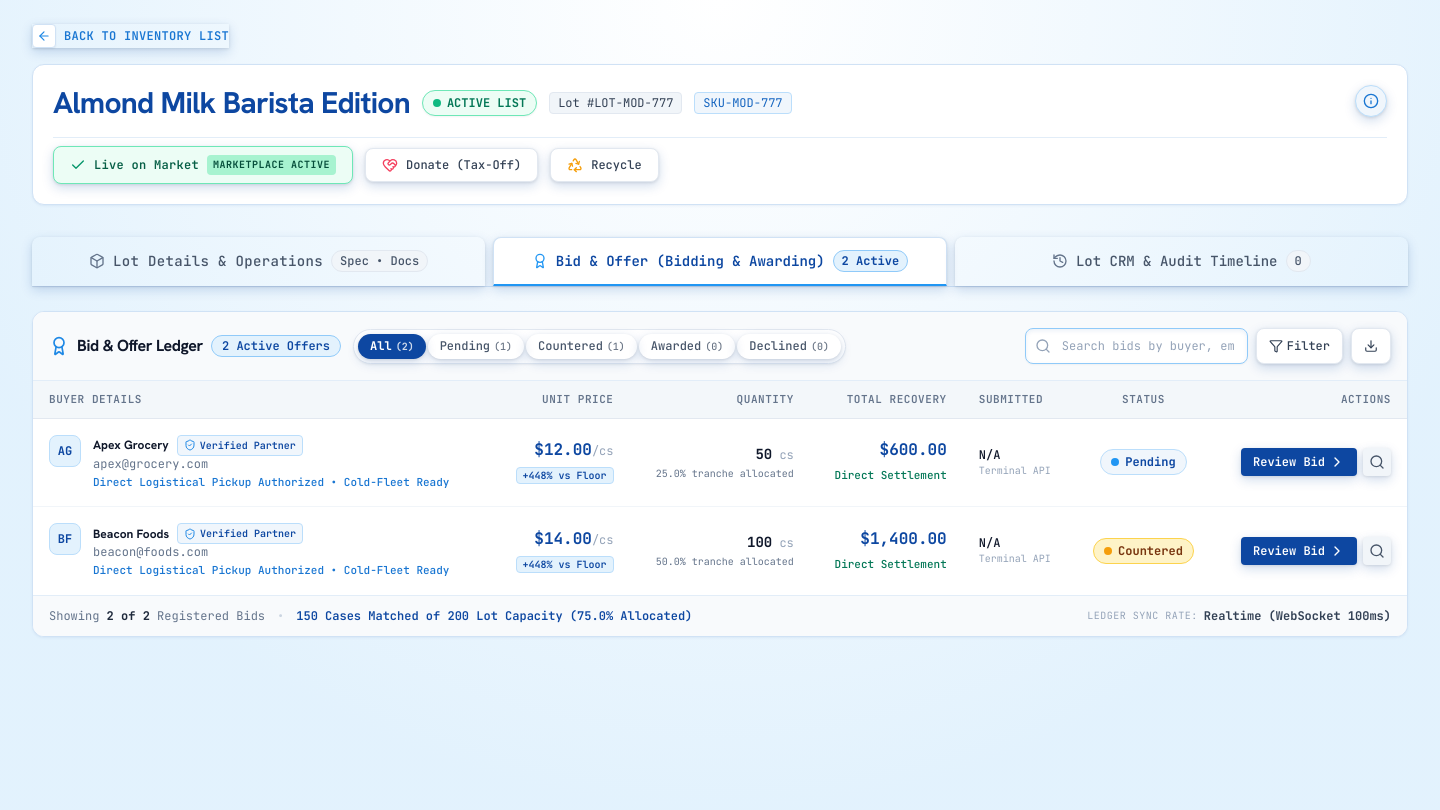
Test: LotOperationsHub Modular Architecture & Headless Math › modular component stage rendering › filters bids by status and query within bids stage
This screenshot has width=1440, height=810.
Expected: the text "Apex Grocery" is shown, [93,437,169,453]
Expected: the text "Beacon Foods" is shown, [93,526,169,542]
// Click Countered filter tab
Click the tab "Countered(1)".
click(581, 346)  # box [526,334,637,358]
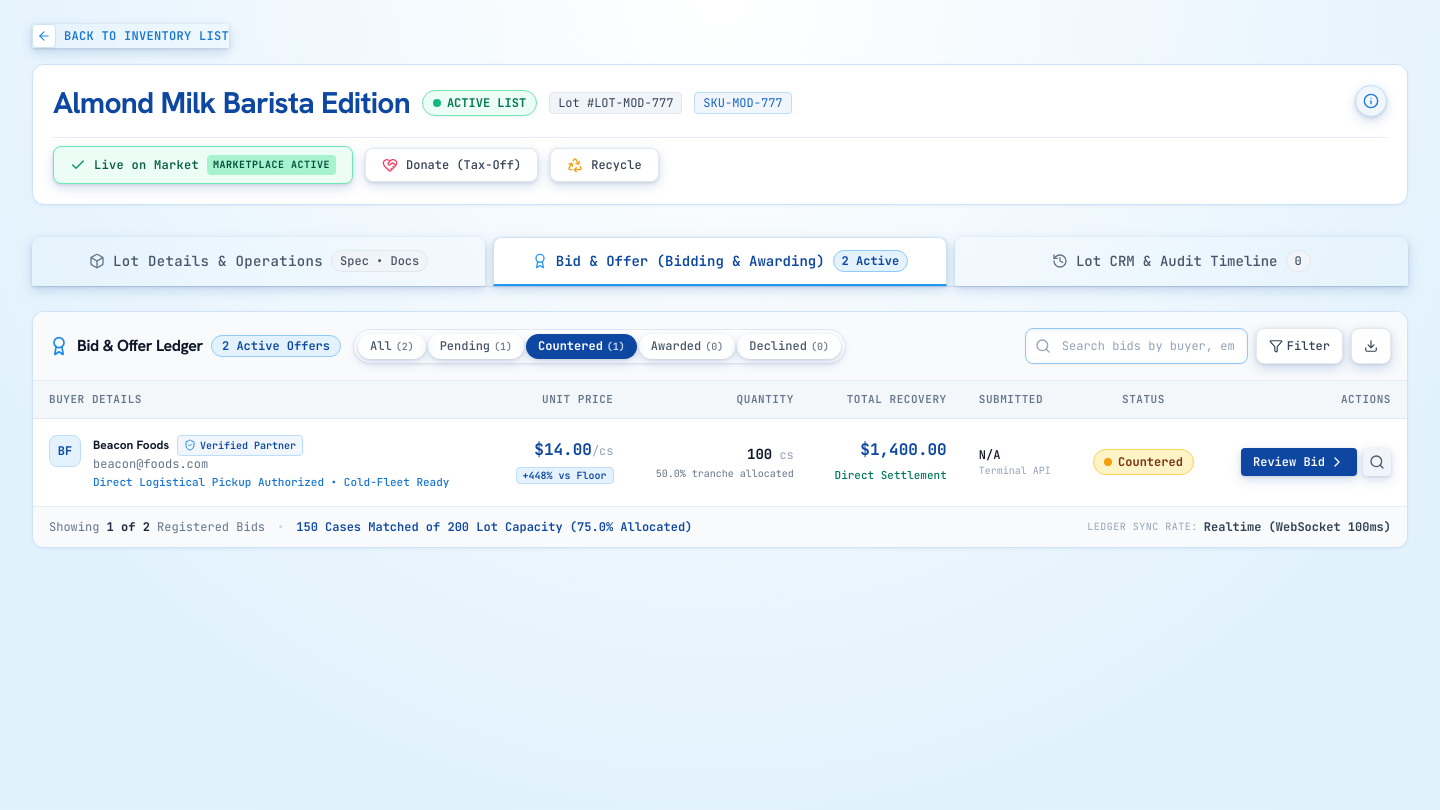
Expected: the text "Beacon Foods" is shown, [93,437,169,453]
Expected: the text "Apex Grocery" is gone
// Test Search query filter
Type "Nonexistent" into the field labelled "Search bids".
click(1136, 346); type("Nonexistent")  # box [1025,328,1248,364]
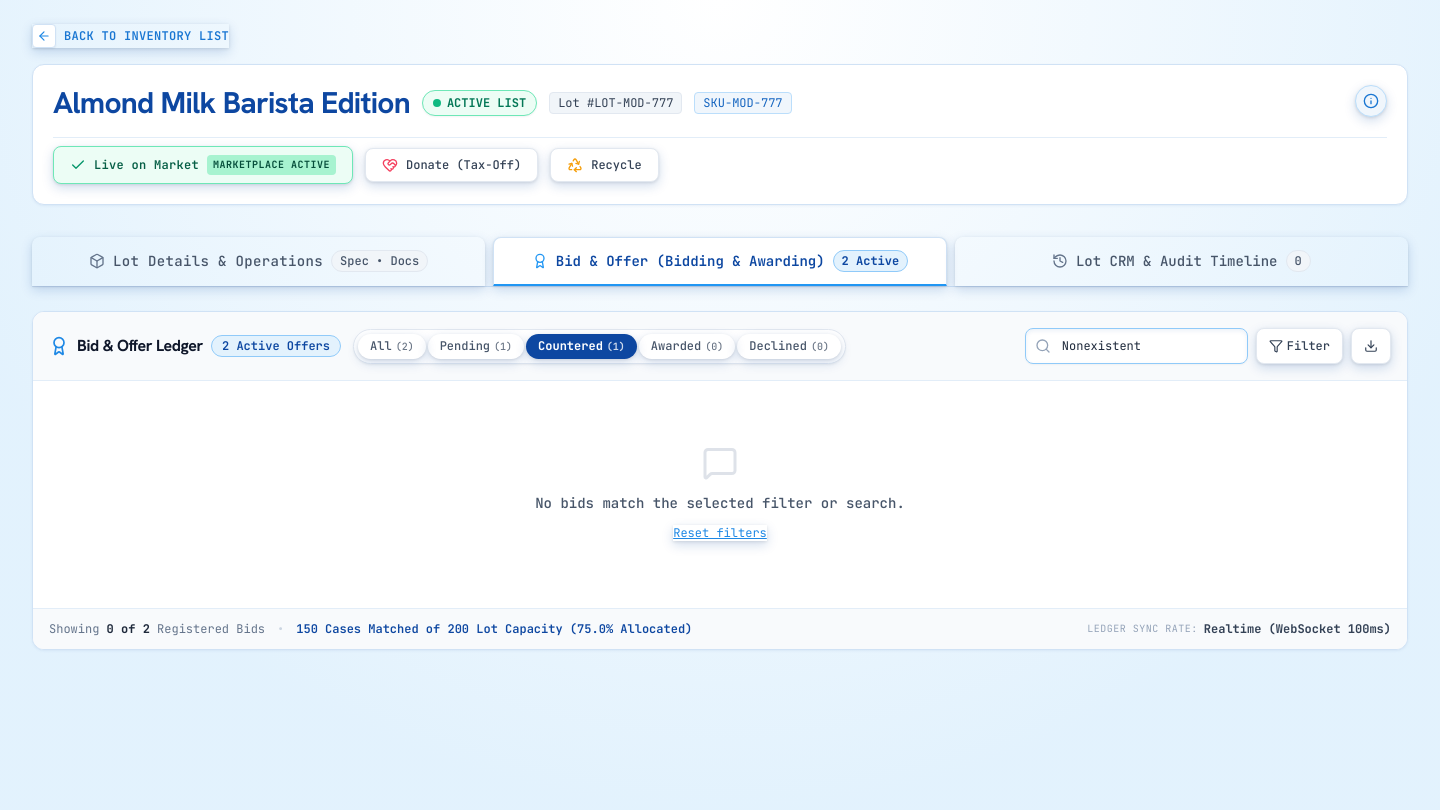
Expected: the text "Beacon Foods" is gone
Expected: the text "No bids match the selected filter or search." is shown, [535,494,905,512]
